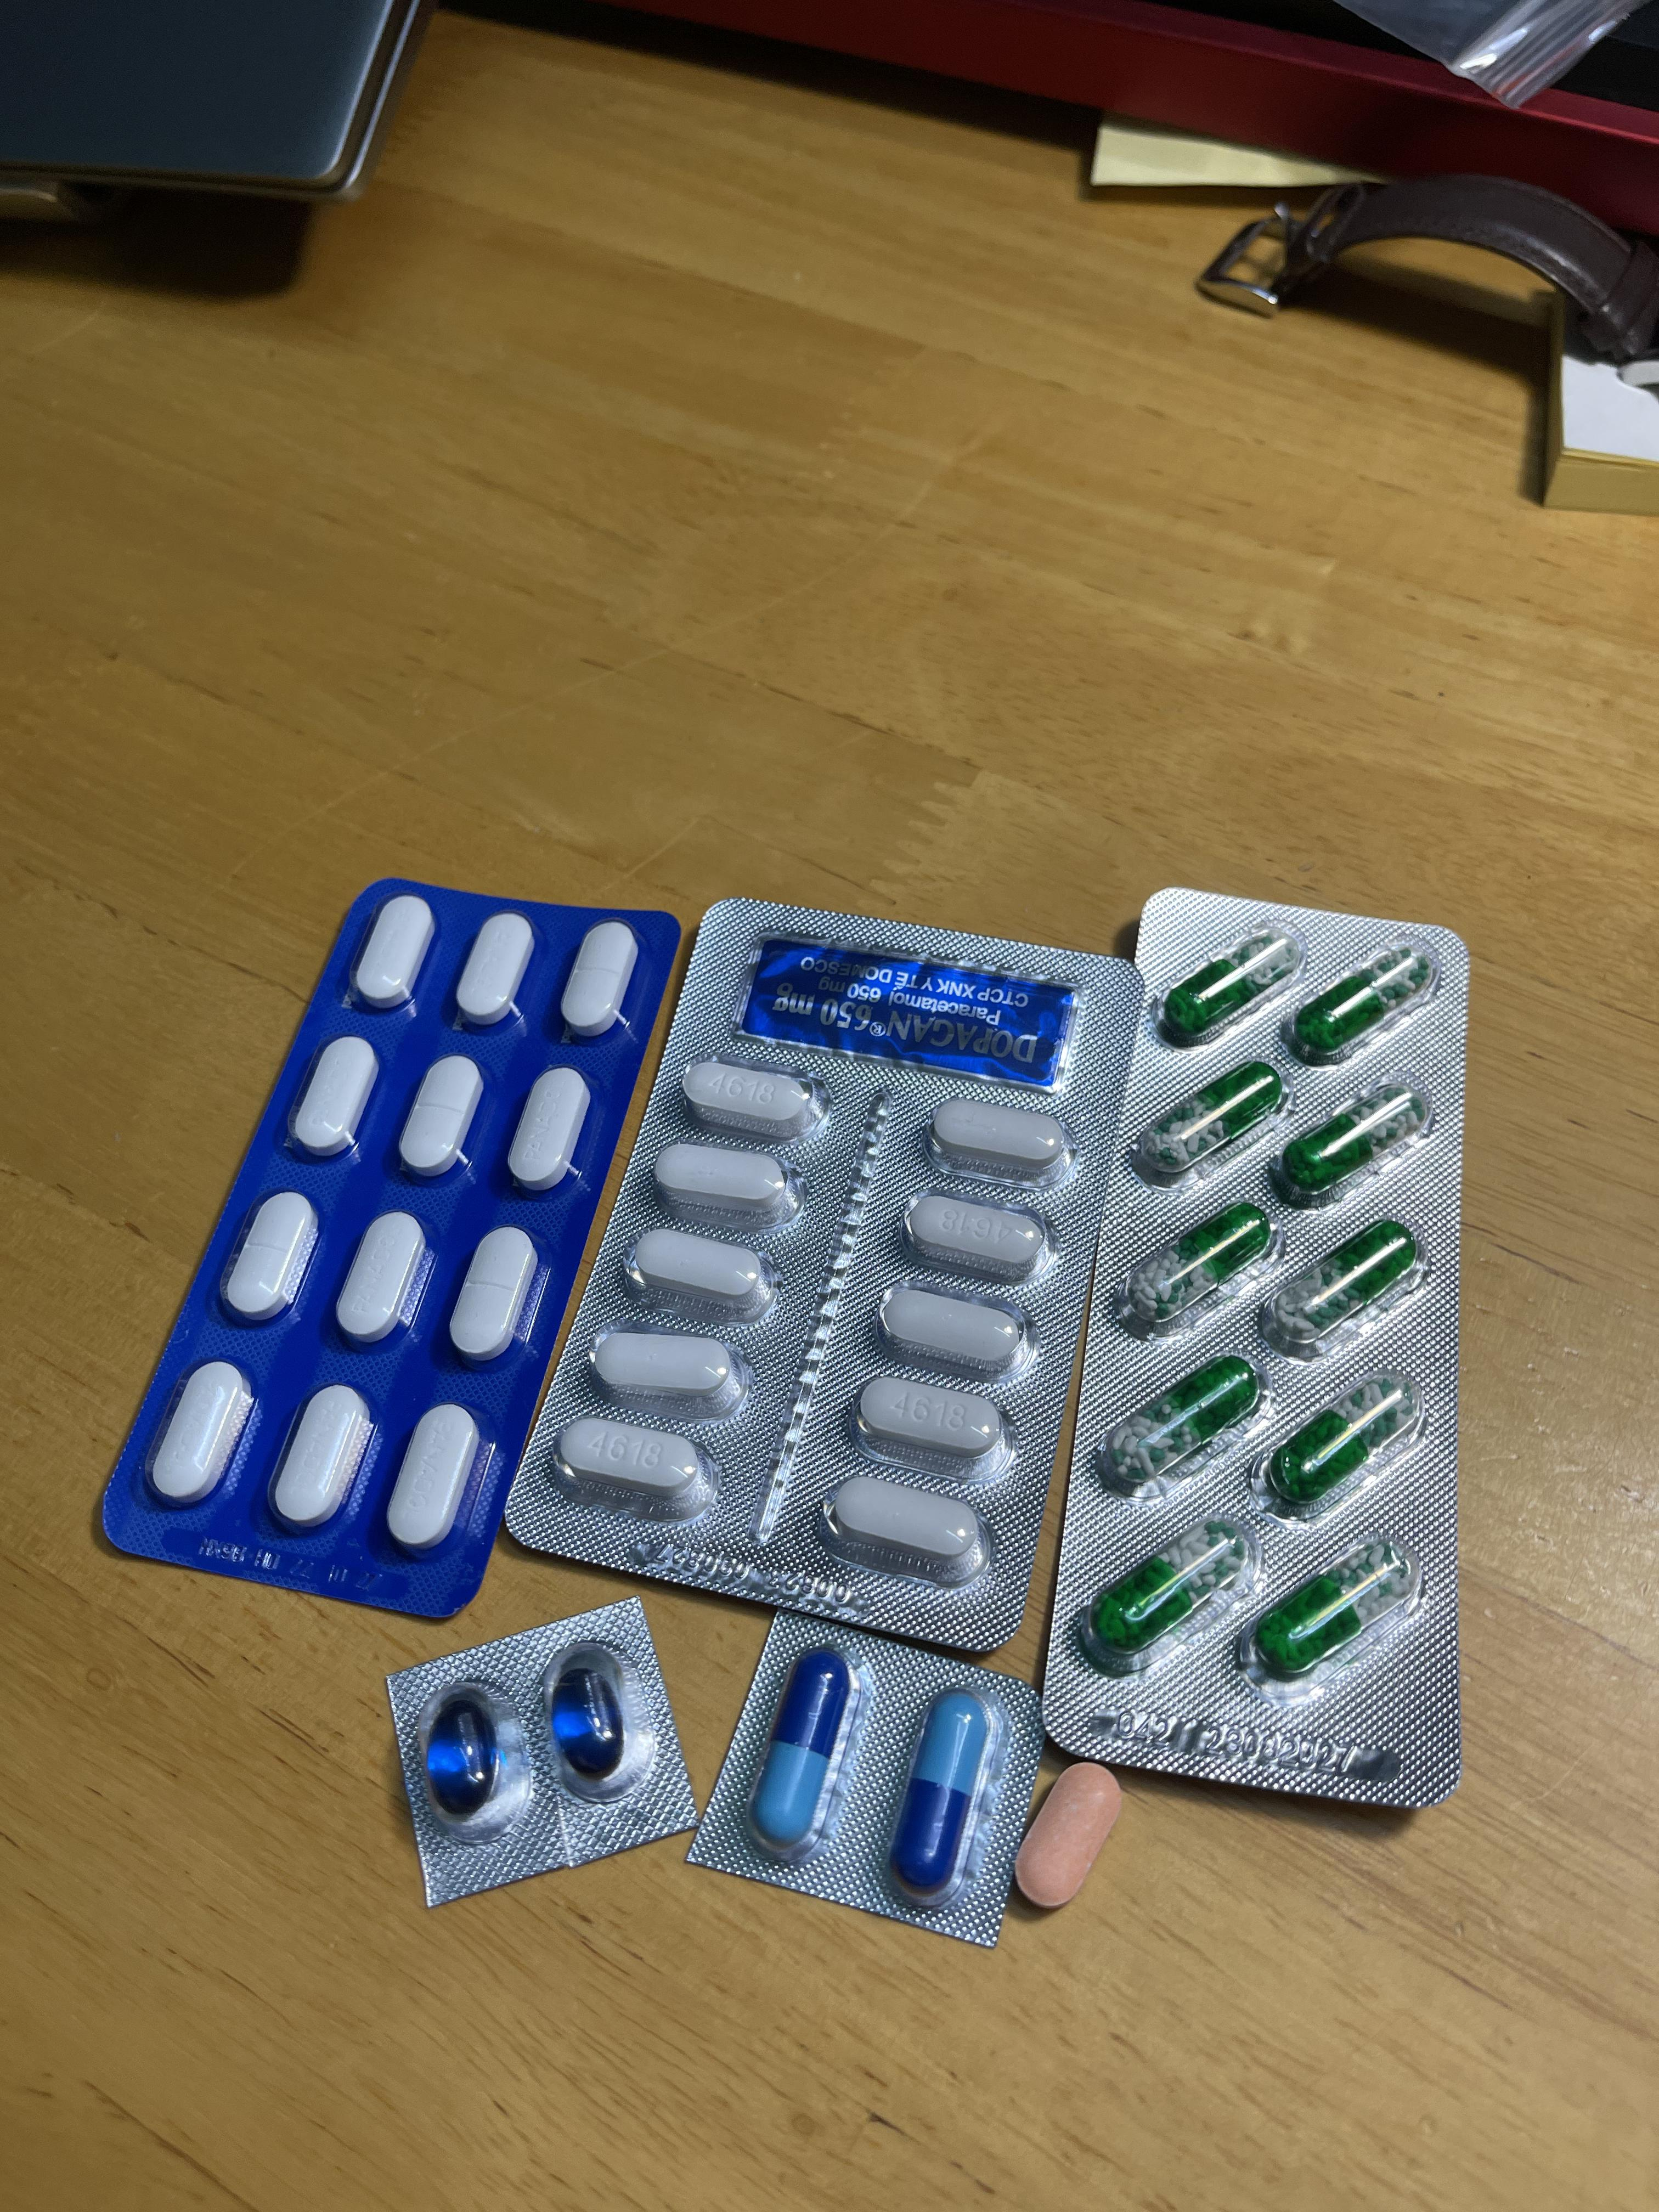Lincomyxin_500mg: (551, 1665, 626, 1775), (427, 1702, 500, 1811)
Loratadine_10mg: (1012, 1759, 1121, 1909)
Paracetamol_350mg: (146, 1359, 254, 1508), (268, 1383, 373, 1533), (385, 1402, 483, 1552), (220, 1191, 319, 1325), (333, 1211, 427, 1346), (448, 1226, 538, 1366), (289, 1036, 380, 1160), (397, 1054, 484, 1179), (507, 1066, 591, 1193), (350, 894, 436, 1010), (453, 909, 535, 1026), (559, 921, 638, 1038)
Paracetamol_500mg: (824, 1472, 988, 1576), (556, 1414, 713, 1514), (852, 1374, 1012, 1468), (875, 1284, 1032, 1378), (903, 1191, 1053, 1285), (925, 1094, 1075, 1183), (591, 1327, 746, 1411), (650, 1139, 796, 1224), (629, 1224, 774, 1310), (680, 1061, 824, 1143)
Paracetamol_650mg: (1258, 1367, 1424, 1517), (1253, 1534, 1415, 1684), (1087, 1517, 1255, 1660), (1096, 1352, 1262, 1494), (1260, 1217, 1427, 1357), (1115, 1200, 1274, 1334), (1274, 1082, 1436, 1204), (1131, 1059, 1288, 1183), (1286, 944, 1439, 1068), (1154, 927, 1304, 1049)
pill: (892, 1689, 993, 1895), (751, 1653, 854, 1851)
